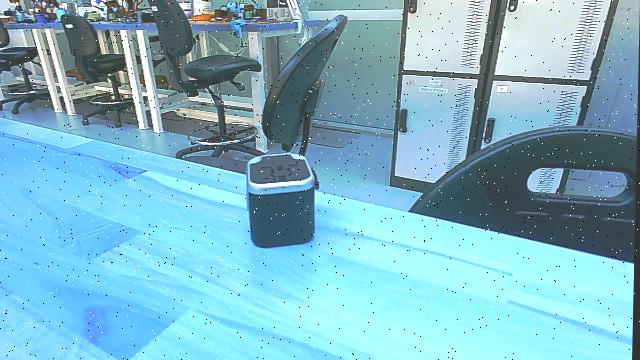adapter: (241, 148, 324, 256)
